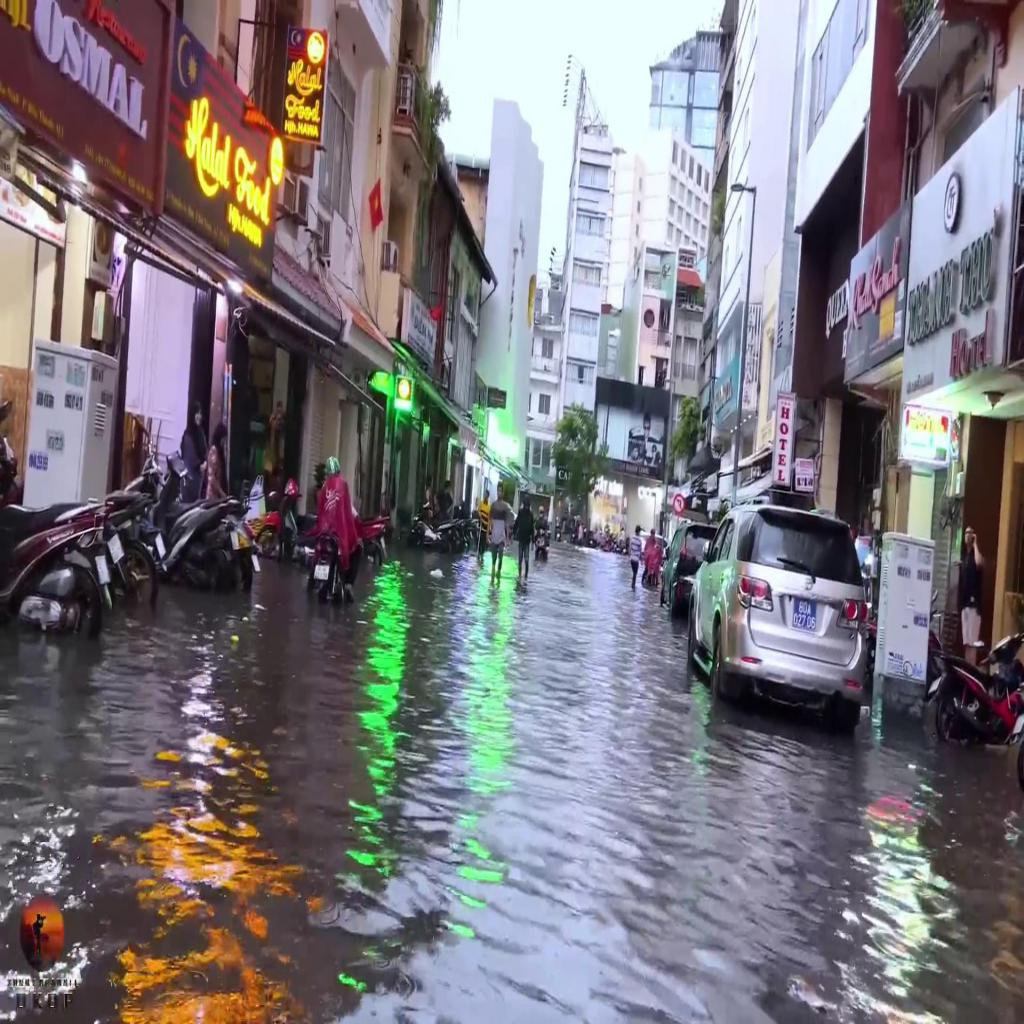cam_re_trai: (671, 491, 687, 518)
